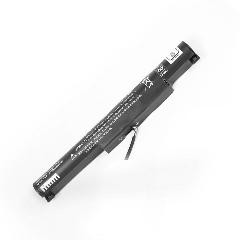electronic: (23, 10, 234, 240)
